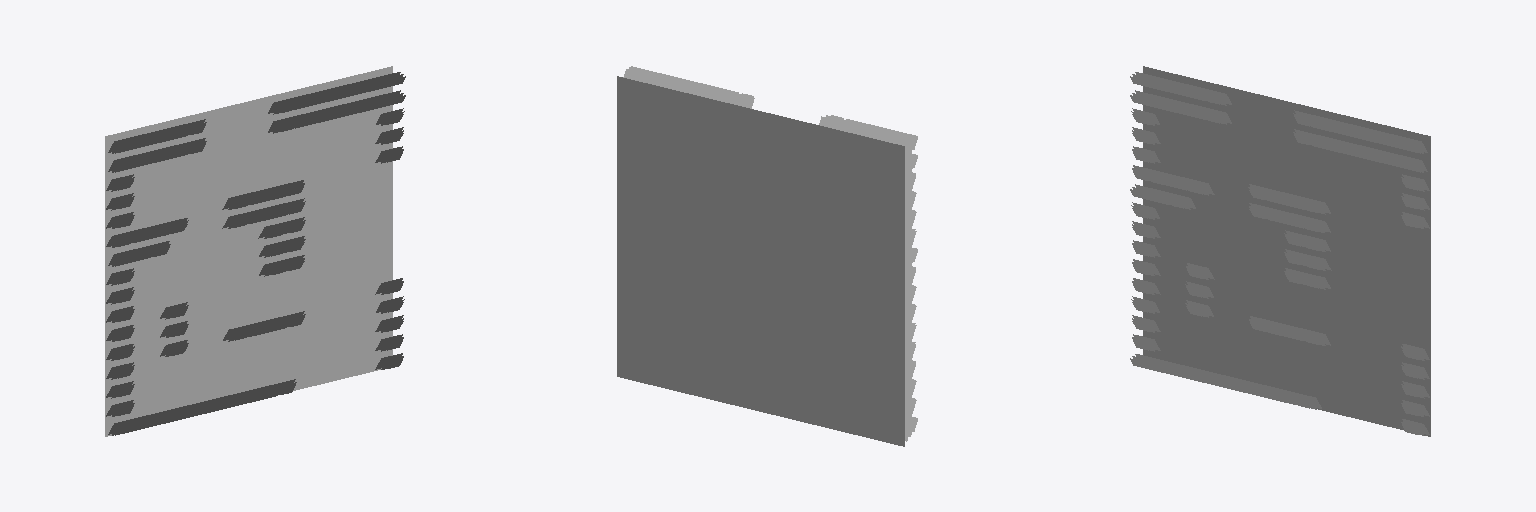
File: Plat_full_04_19.obj
3 renders of one model, left to right at view 1: azimuth 30°, elevation 25°; view 2: azimuth 150°, elevation 25°; view 3: azimuth 330°, elevation 25°, orthographic.
Parts seen in each view (by area): view 1: map; view 2: map; view 3: map.
Boxes of the visible parts, x1=… form: map: x1=105, y1=66, x2=405, y2=436; map: x1=617, y1=66, x2=917, y2=446; map: x1=1130, y1=66, x2=1430, y2=436.
Bounding box in the file's own units: 32.5 × 32.12 × 2.64.